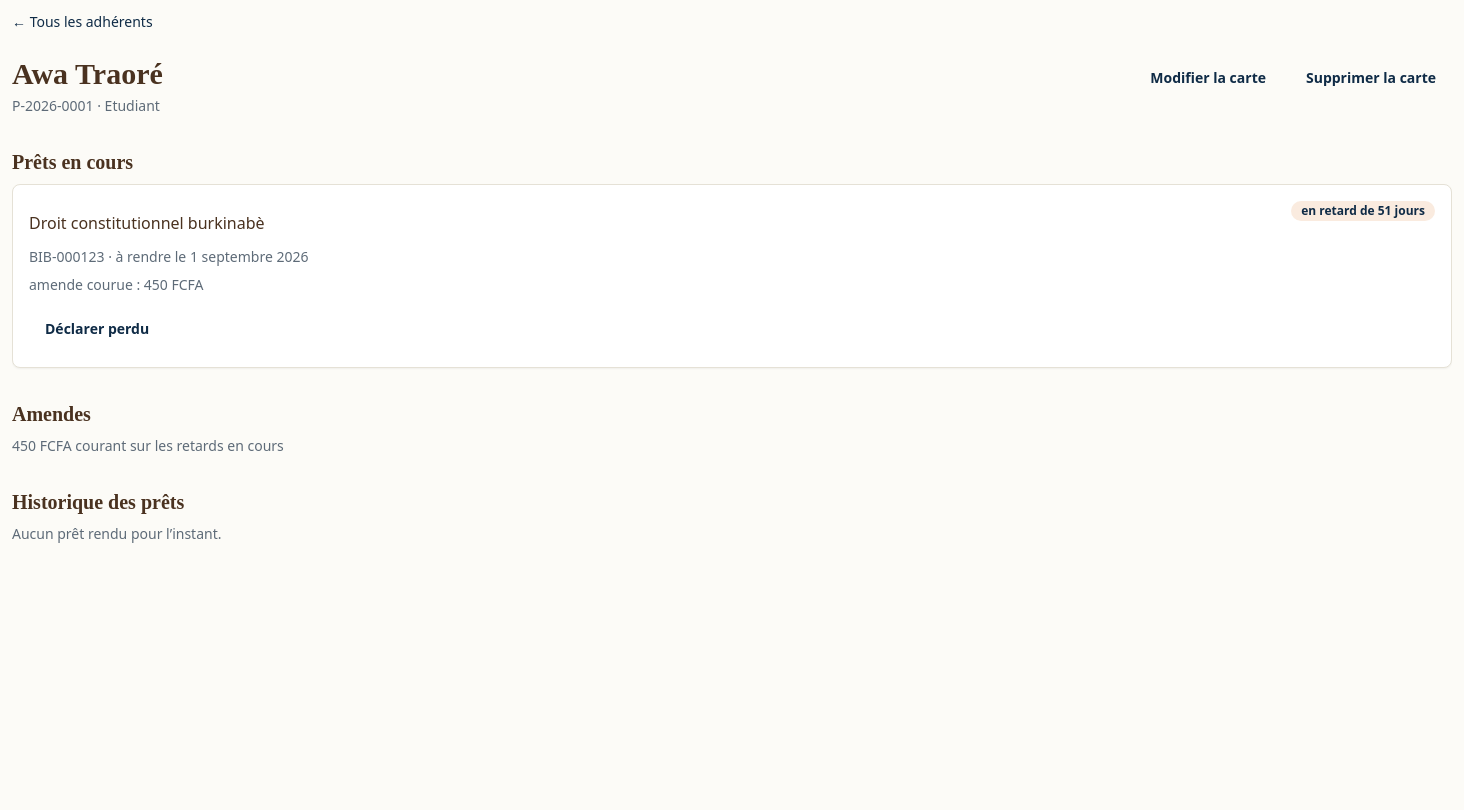
Test case: ⚠ 6 · la suppression, le seul endroit où une erreur détruit › refuse en NOMMANT le document, et n’appelle jamais DELETE
Check: the heading "Awa Traoré" is shown, box [12, 56, 163, 92]
Click the button "Supprimer la carte".
click(1371, 78)  # box [1290, 56, 1452, 100]
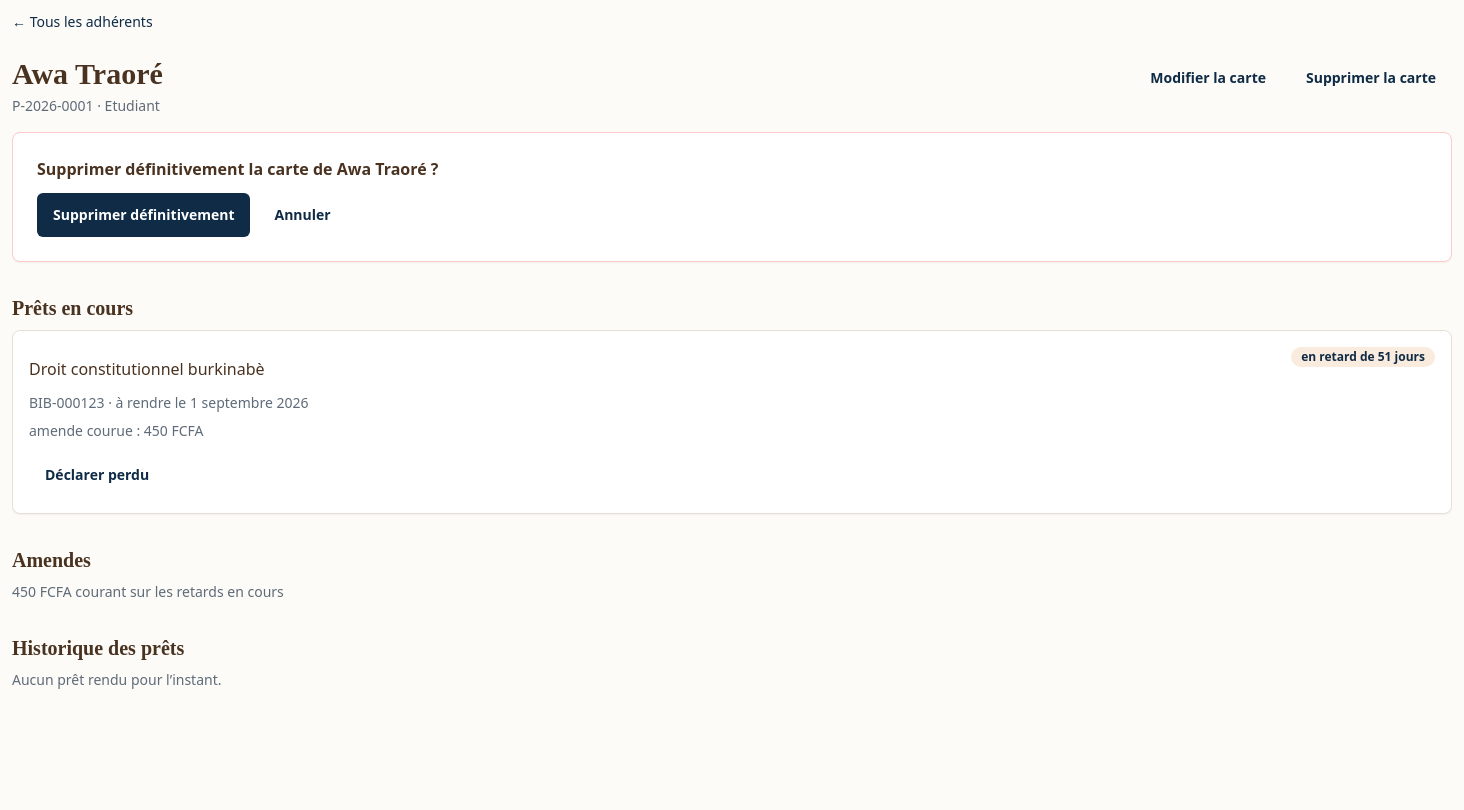
Click the button "Supprimer définitivement".
click(144, 215)  # box [37, 193, 250, 237]
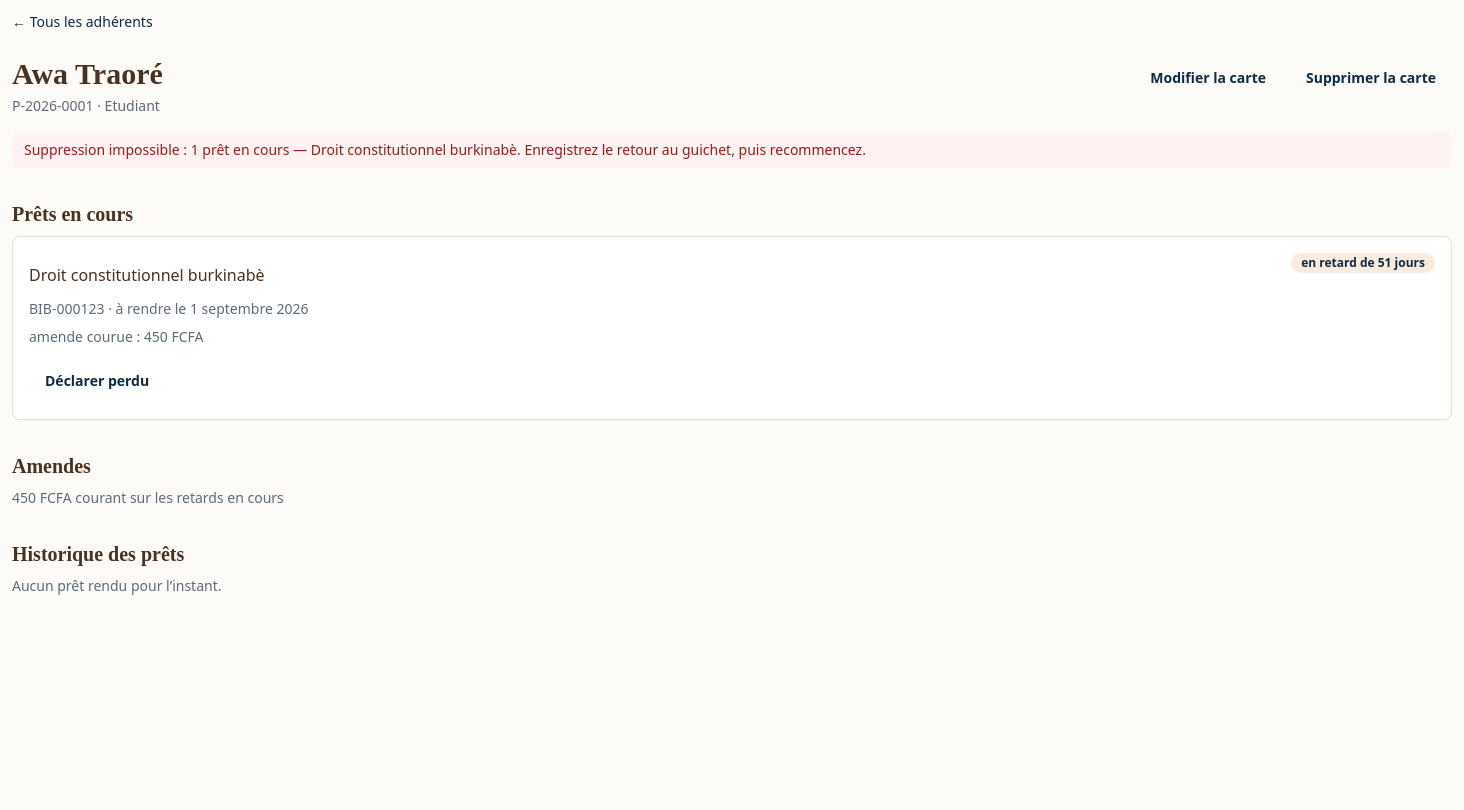
Check: the message shows "Droit constitutionnel burkinabè", box [24, 140, 866, 159]
